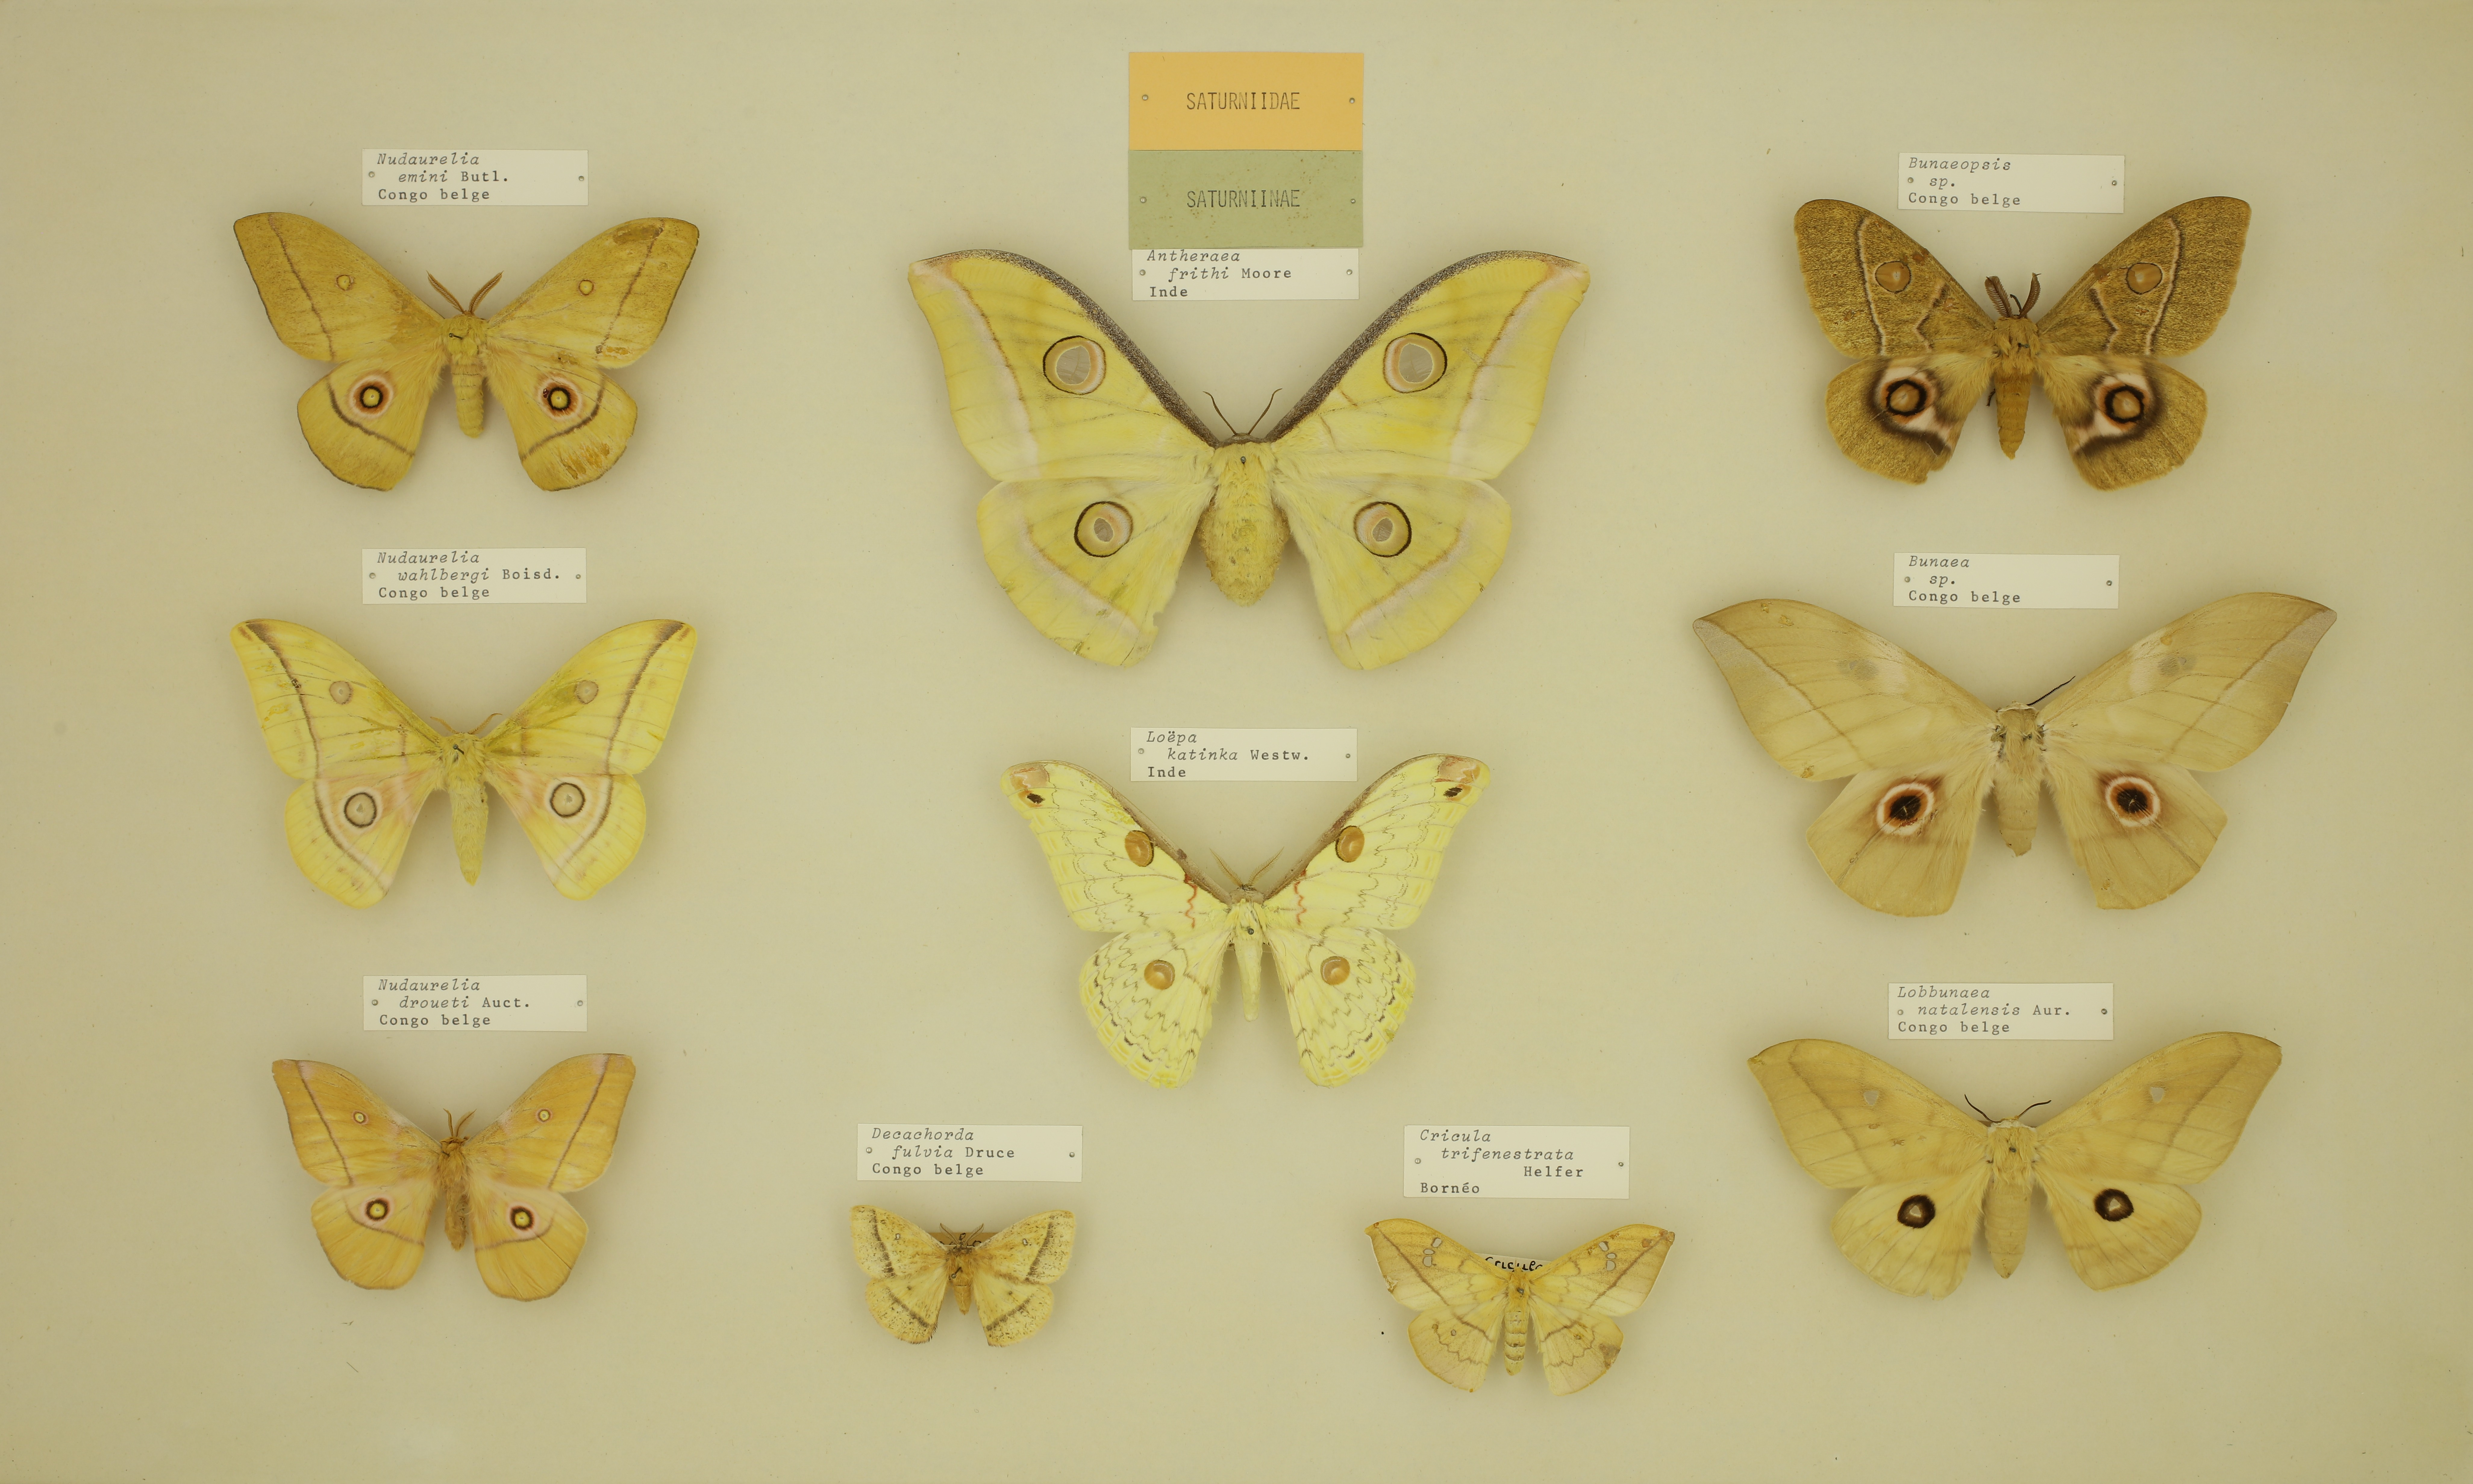insect: (903, 231, 1602, 687), (1683, 587, 2346, 936), (984, 738, 1509, 1101), (1743, 1026, 2296, 1306), (219, 201, 717, 505), (223, 609, 707, 922), (1784, 185, 2261, 502), (261, 1046, 647, 1309), (1360, 1212, 1682, 1404), (836, 1196, 1090, 1362)
